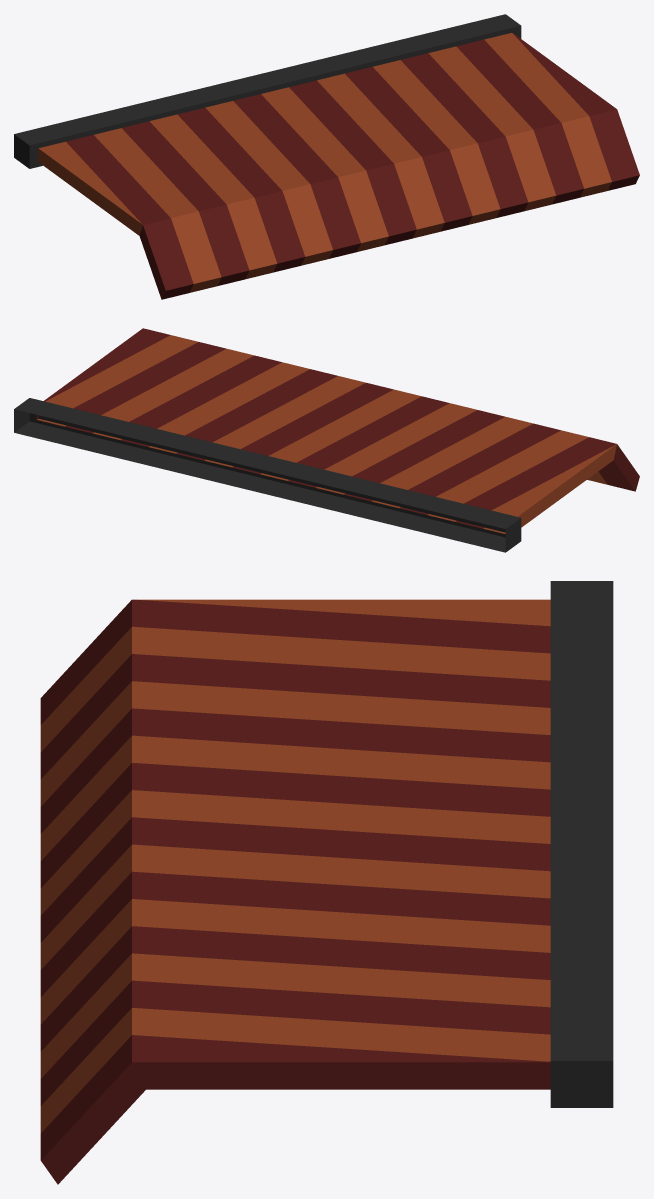
File: Awning_D_01.FBX
3 views of the same model, one above another, from view 1: azimuth 30°, elevation 25°; view 2: azimuth 150°, elevation 25°; view 3: azimuth 270°, elevation 25° (orthographic). The views are drawn at different scales.
Visible parts, largest first — view 1: Awning_D_01; view 2: Awning_D_01; view 3: Awning_D_01.
Part boxes in pixels (bbox=[...]): Awning_D_01: bbox=[14, 14, 639, 299]; Awning_D_01: bbox=[14, 328, 639, 552]; Awning_D_01: bbox=[40, 581, 613, 1184].
Size of the model in its own units: 3.16 by 0.4069 by 1.59.
